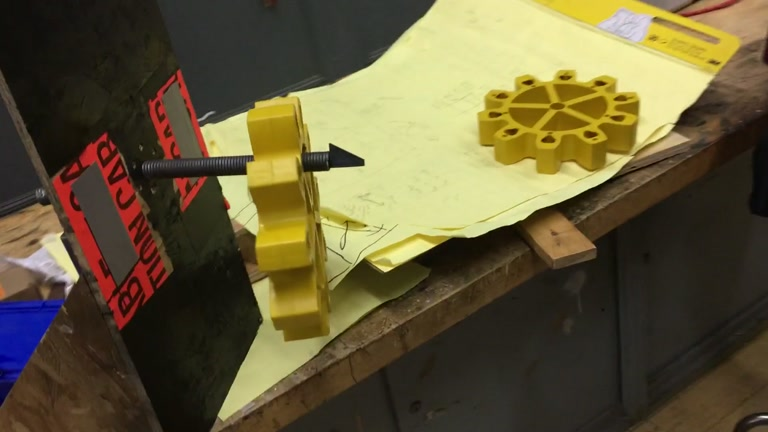gear: (244, 97, 336, 342), (475, 67, 641, 176)
